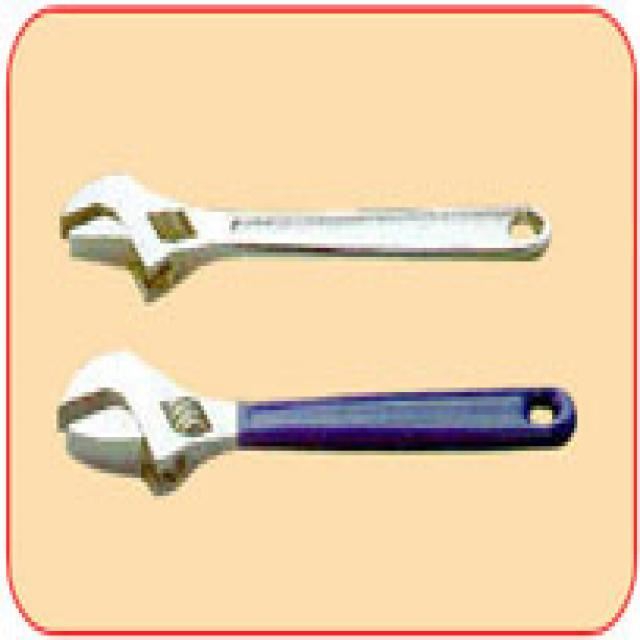wrench: (53, 166, 561, 299)
